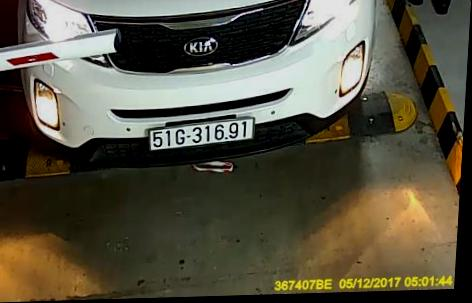License_Plate: (147, 118, 257, 151)
